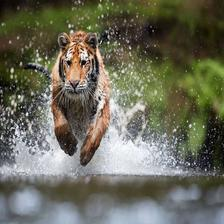tiger: (26, 26, 120, 170)
